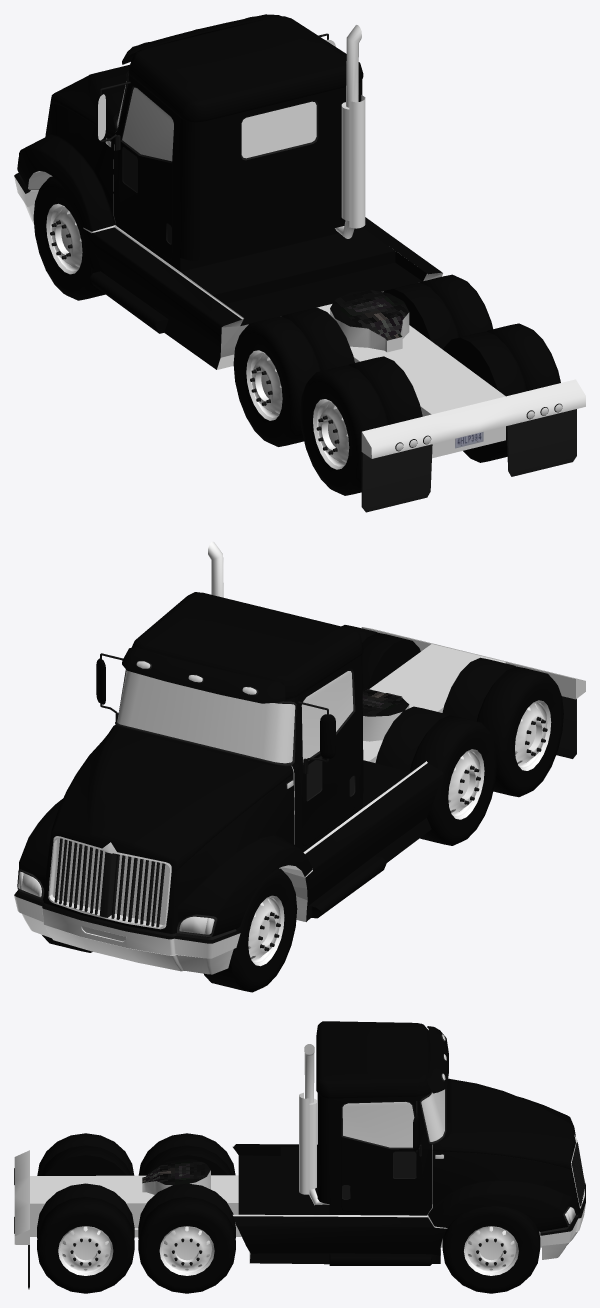
The model's file is MCLA_VA_SEMITRUCK_00_CAB.glb.
3 views of the same model, one above another, from view 1: azimuth 30°, elevation 25°; view 2: azimuth 150°, elevation 25°; view 3: azimuth 270°, elevation 25° (orthographic). The views are drawn at different scales.
Parts seen in each view (by area): view 1: va_semitruck_00_cab/resources/vehicle/va_semitruck_00_cab/bo (×9); view 2: va_semitruck_00_cab/resources/vehicle/va_semitruck_00_cab/bo (×8); view 3: va_semitruck_00_cab/resources/vehicle/va_semitruck_00_cab/bo (×9).
Part boxes in pixels (left/top/right/bottom): va_semitruck_00_cab/resources/vehicle/va_semitruck_00_cab/bo (×9): left=14, top=14, right=585, bottom=512; va_semitruck_00_cab/resources/vehicle/va_semitruck_00_cab/bo (×8): left=14, top=541, right=585, bottom=992; va_semitruck_00_cab/resources/vehicle/va_semitruck_00_cab/bo (×9): left=14, top=1021, right=585, bottom=1293.
Bounding box in the file's own units: 2.5 × 3.18 × 6.84.
Materials: 11 (7 with a texture image).
